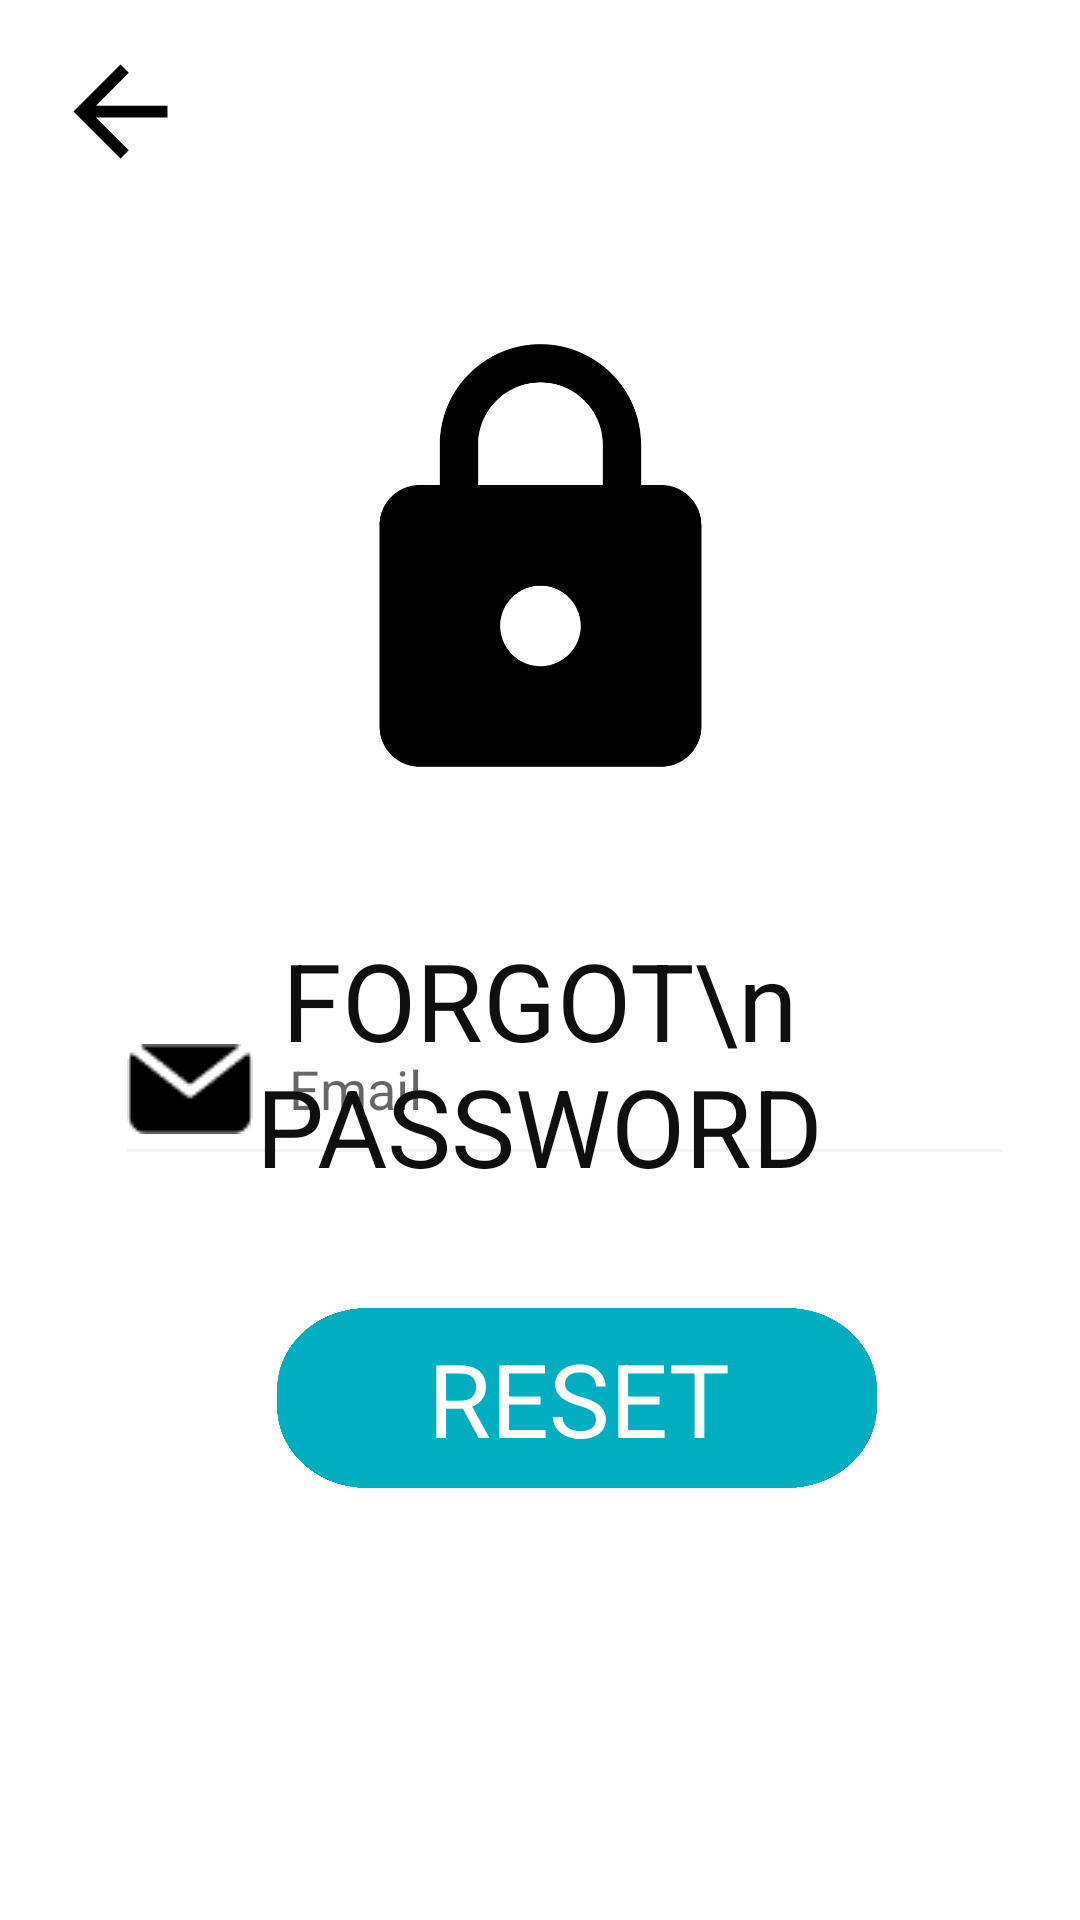

Named icons in this screenshot (1080px x 1920px) and their centers, (x,y):
arrow back: (120,111)
